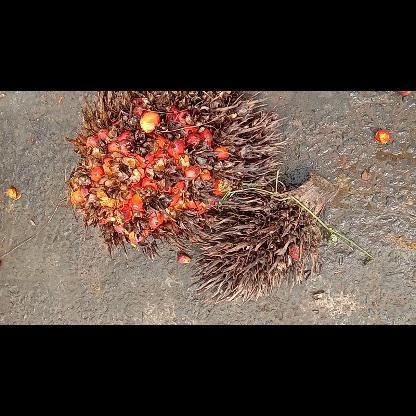Janjang kosong: (187, 173, 335, 299)
Terlalu masak: (66, 91, 286, 261)
